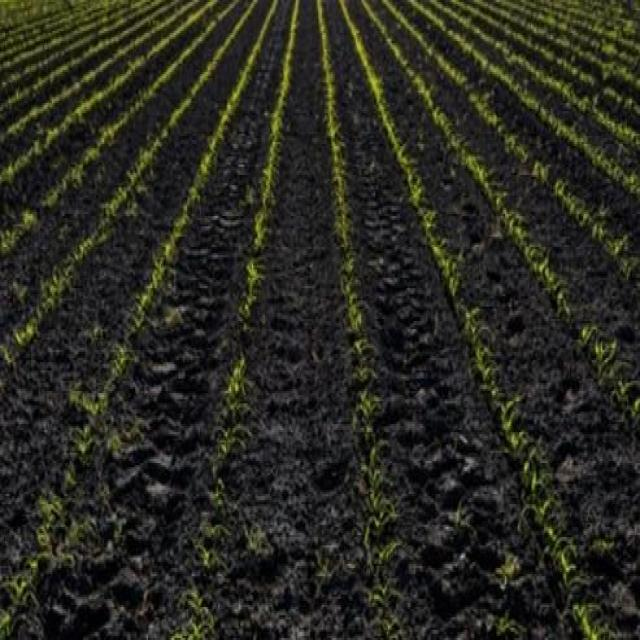row: (348, 0, 640, 640), (16, 0, 293, 638), (326, 0, 587, 640), (0, 0, 272, 599), (206, 1, 374, 640), (371, 1, 640, 380), (2, 0, 253, 343), (395, 0, 640, 254), (1, 0, 232, 232), (423, 1, 640, 174), (0, 1, 212, 174)
